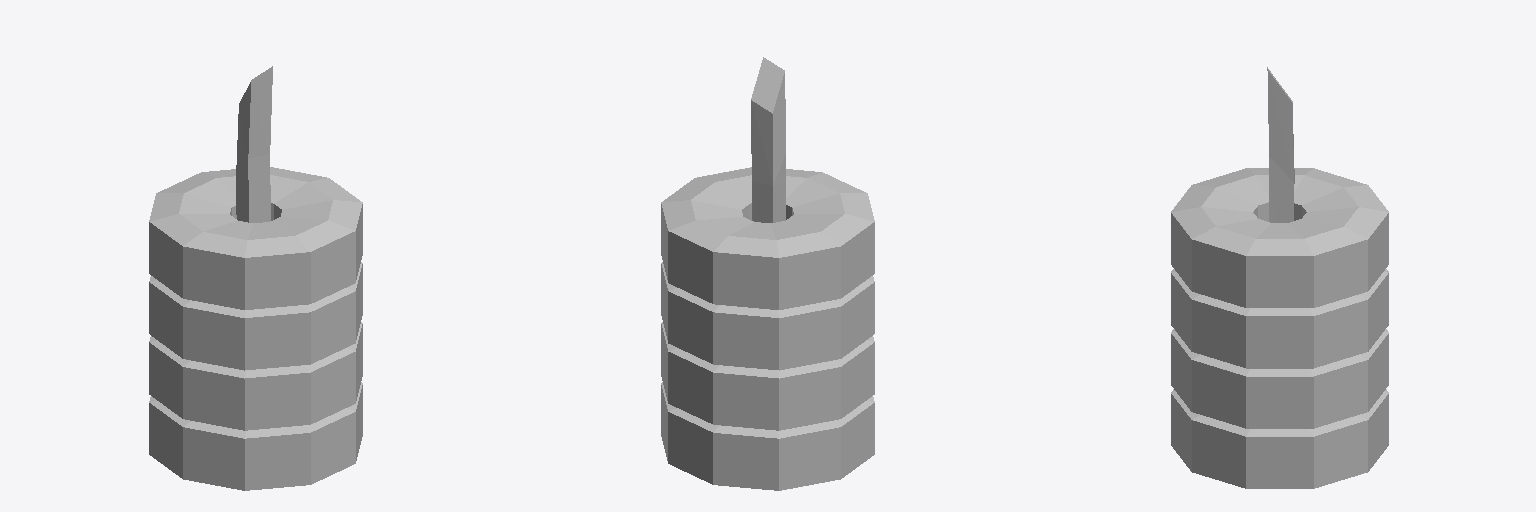
Rendered from obstacle.obj.
3 views of the same model, side by side, from view 1: azimuth 30°, elevation 25°; view 2: azimuth 150°, elevation 25°; view 3: azimuth 270°, elevation 25° (orthographic).
Parts seen in each view (by area): view 1: Cube_Cube.001; view 2: Cube_Cube.001; view 3: Cube_Cube.001.
Part boxes in pixels (left/top/right/bottom): Cube_Cube.001: left=149, top=66, right=362, bottom=490; Cube_Cube.001: left=661, top=57, right=874, bottom=490; Cube_Cube.001: left=1171, top=67, right=1388, bottom=488.
Size of the model in its own units: 1.9 by 3.88 by 2.